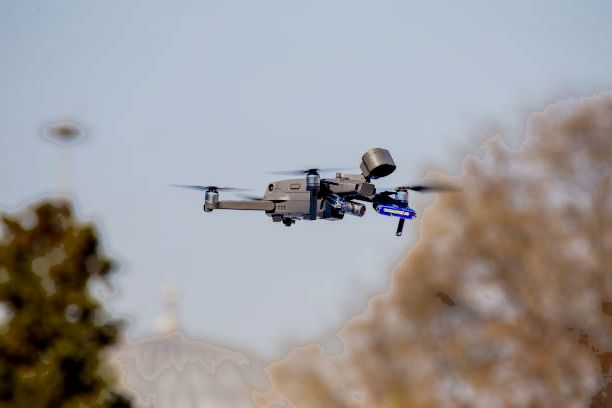Drone: (171, 138, 466, 239)
